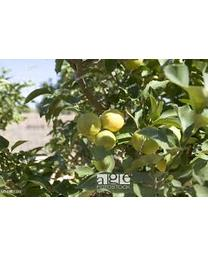lemon: (76, 112, 100, 134), (94, 129, 116, 150), (102, 110, 124, 128)
